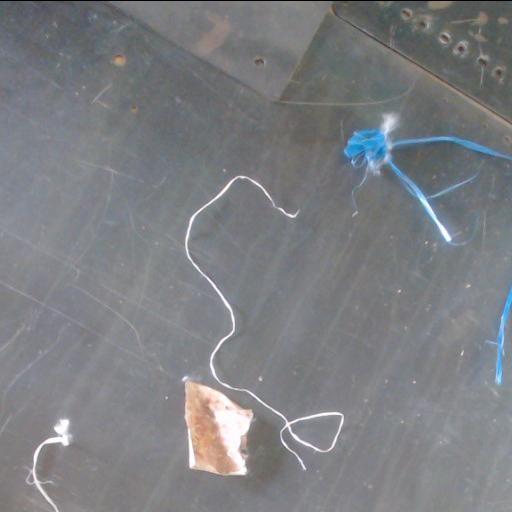conveyor belt: (0, 1, 511, 512)
packet: (185, 379, 253, 475)
thread: (184, 175, 343, 469), (344, 114, 511, 243), (30, 419, 70, 512), (492, 291, 511, 383)
